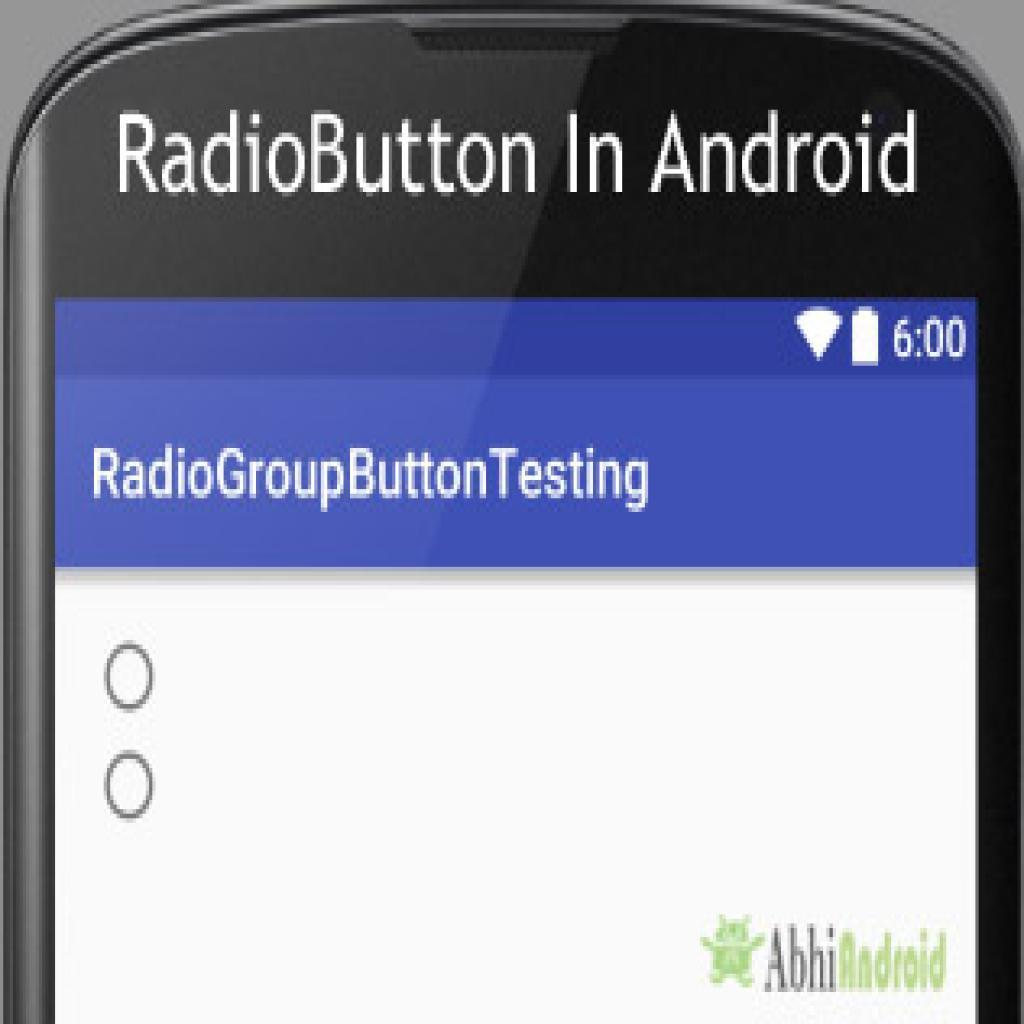radio: (102, 747, 159, 823), (103, 633, 155, 714)
